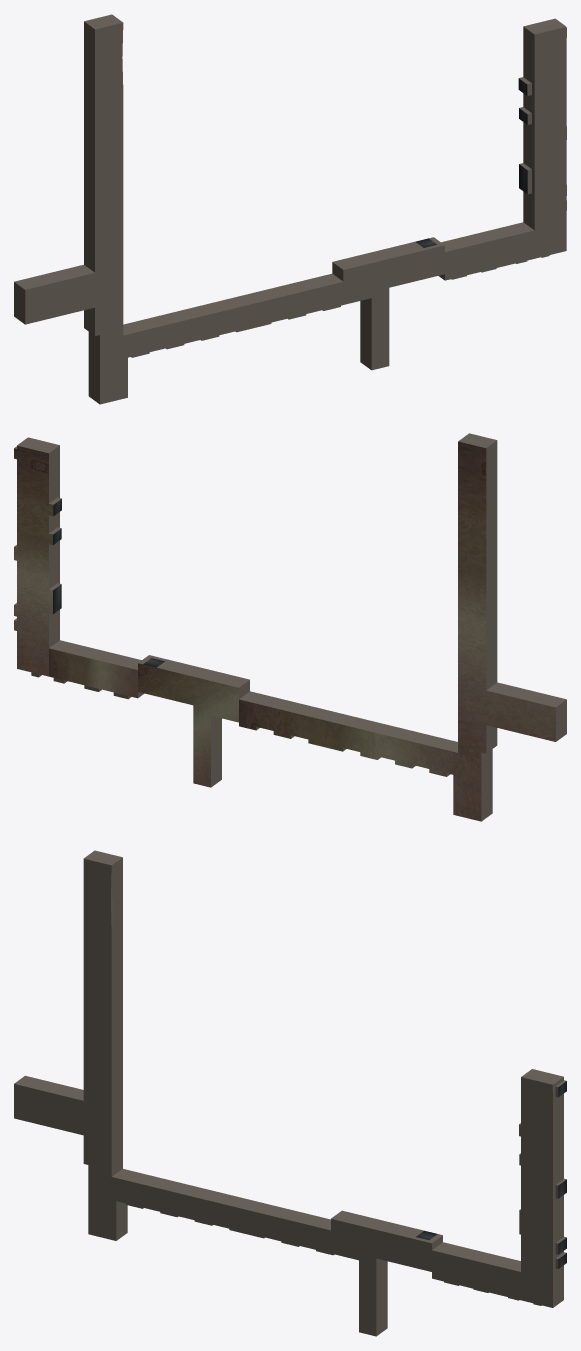
Rendered from esat.dae.
3 renders of one model, top to bottom at view 1: azimuth 30°, elevation 25°; view 2: azimuth 150°, elevation 25°; view 3: azimuth 330°, elevation 25°, orthographic.
Visible parts, largest first — view 1: Cube; view 2: Cube; view 3: Cube.
Boxes of the visible parts, x1,y1,x2,y2 form: Cube: [14, 14, 566, 404]; Cube: [14, 433, 566, 821]; Cube: [14, 850, 566, 1336].
Bounding box in the file's own units: 70.17 × 50.31 × 2.5.
3 materials, 3 textured.
